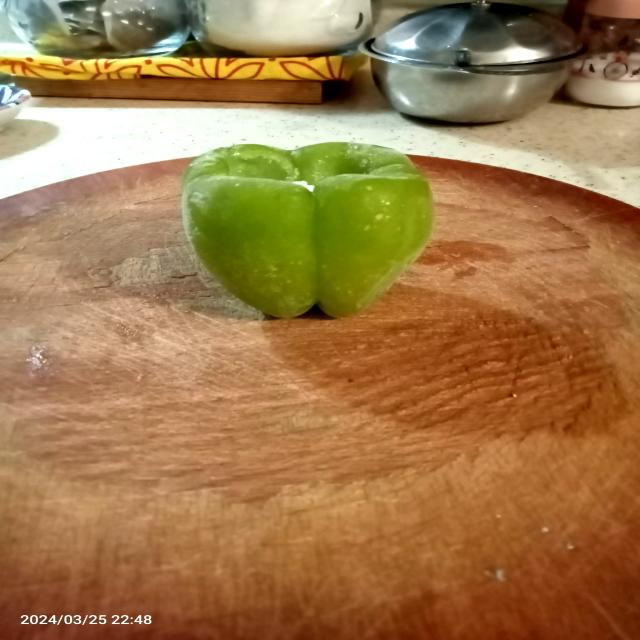bell pepper: (158, 134, 460, 330)
